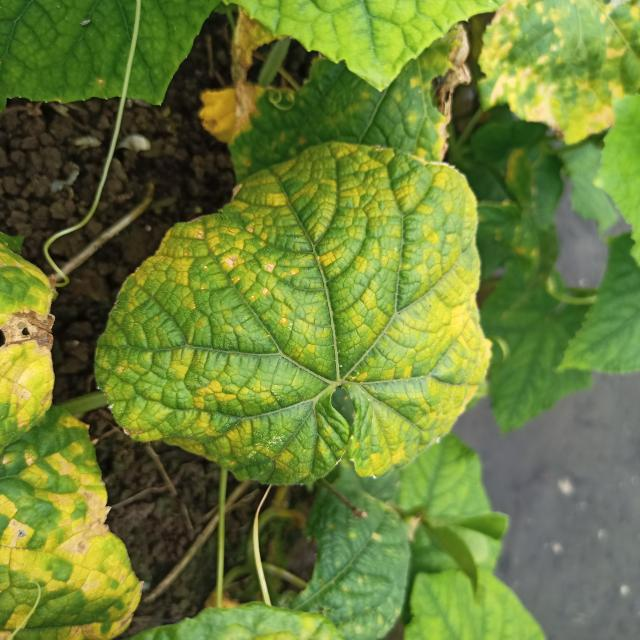disease_cucumber: (107, 141, 490, 481)
